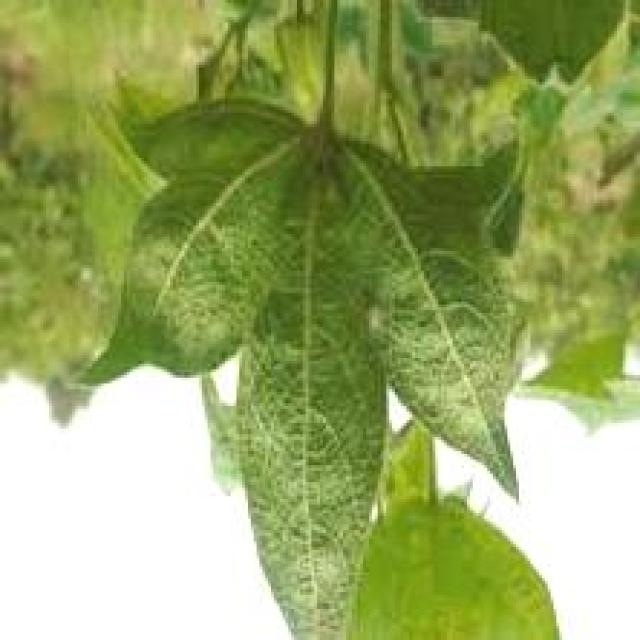Leaf Curl Virus: (177, 122, 466, 511)
